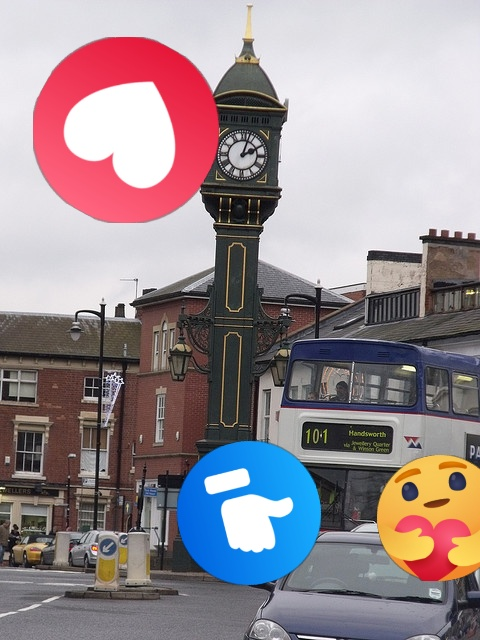care: (377, 455, 480, 581)
like: (177, 441, 321, 585)
love: (33, 37, 219, 223)
